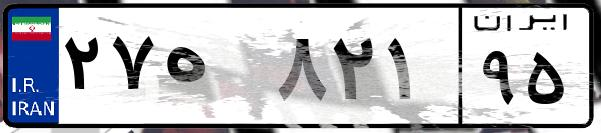1: (385, 28, 445, 110)
2: (330, 28, 385, 110), (57, 26, 110, 100)
5: (525, 38, 570, 115)
7: (110, 28, 158, 98)
8: (270, 28, 330, 110)
9: (475, 38, 525, 113)
ه: (158, 20, 270, 120)
